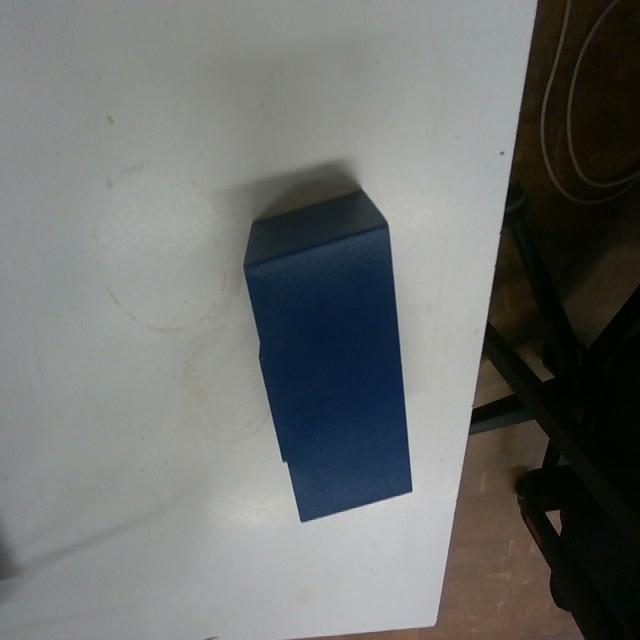Blue Cuboid: (241, 185, 415, 523)
